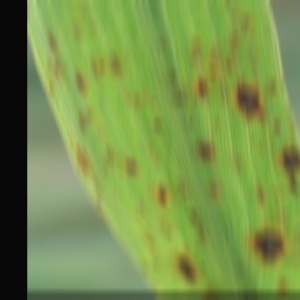Bacterial_Leaf_Blight: (242, 229, 293, 265), (230, 77, 266, 121), (169, 251, 199, 285), (190, 138, 219, 167), (187, 73, 213, 101), (248, 178, 271, 207), (38, 26, 61, 54), (68, 68, 91, 93), (71, 142, 88, 174), (278, 148, 300, 172), (100, 143, 119, 166), (120, 157, 141, 177), (152, 184, 170, 206), (107, 54, 123, 78), (205, 179, 220, 199), (267, 119, 285, 135), (273, 277, 291, 293), (284, 177, 300, 195), (74, 113, 87, 134), (141, 235, 157, 251), (149, 118, 165, 133), (183, 209, 199, 224), (237, 15, 253, 30), (43, 80, 57, 96), (242, 29, 260, 41), (208, 118, 223, 132), (75, 6, 90, 19), (220, 60, 235, 73), (227, 30, 240, 45), (70, 24, 83, 39), (200, 283, 215, 296), (266, 80, 278, 96), (137, 262, 151, 275), (190, 39, 205, 51), (172, 92, 185, 105), (205, 68, 220, 79), (242, 287, 260, 296), (231, 158, 244, 170), (155, 40, 170, 50), (166, 72, 178, 84), (91, 197, 103, 209), (287, 121, 296, 137), (184, 118, 197, 129), (51, 61, 62, 74), (163, 228, 175, 239), (98, 163, 111, 173), (96, 61, 107, 72), (82, 109, 93, 120), (145, 98, 157, 108), (185, 55, 200, 63), (86, 23, 98, 33), (196, 264, 208, 274), (130, 96, 141, 106), (227, 11, 238, 21), (149, 260, 160, 270), (147, 281, 159, 290), (178, 198, 190, 207), (233, 263, 245, 272), (114, 167, 125, 176), (152, 158, 161, 169), (121, 49, 130, 59), (155, 220, 165, 229), (254, 144, 264, 153), (181, 247, 191, 256), (127, 30, 137, 39), (212, 287, 222, 296), (282, 107, 293, 115), (207, 52, 216, 61), (246, 137, 256, 145), (142, 226, 152, 234), (191, 244, 200, 252), (221, 0, 231, 7), (132, 212, 140, 220), (62, 31, 70, 39), (43, 65, 50, 74), (123, 96, 132, 103), (94, 51, 101, 59), (260, 88, 268, 95), (95, 120, 102, 128), (260, 219, 266, 225), (269, 214, 275, 220), (284, 219, 290, 225)
